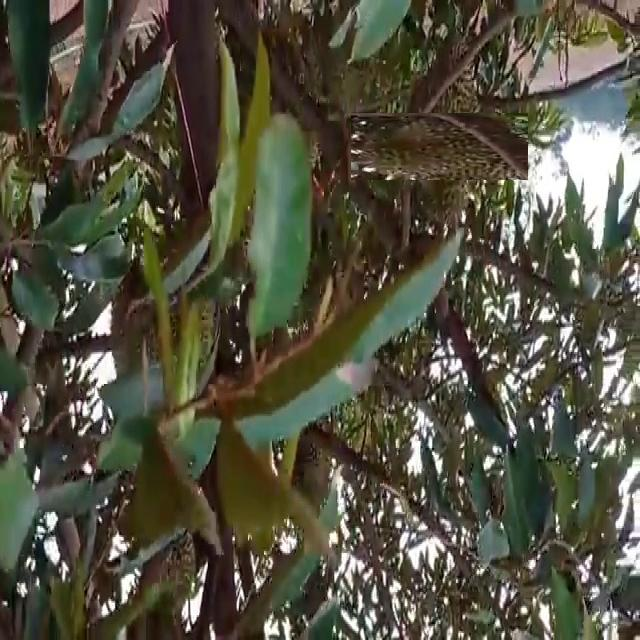durian: (378, 85, 502, 208)
